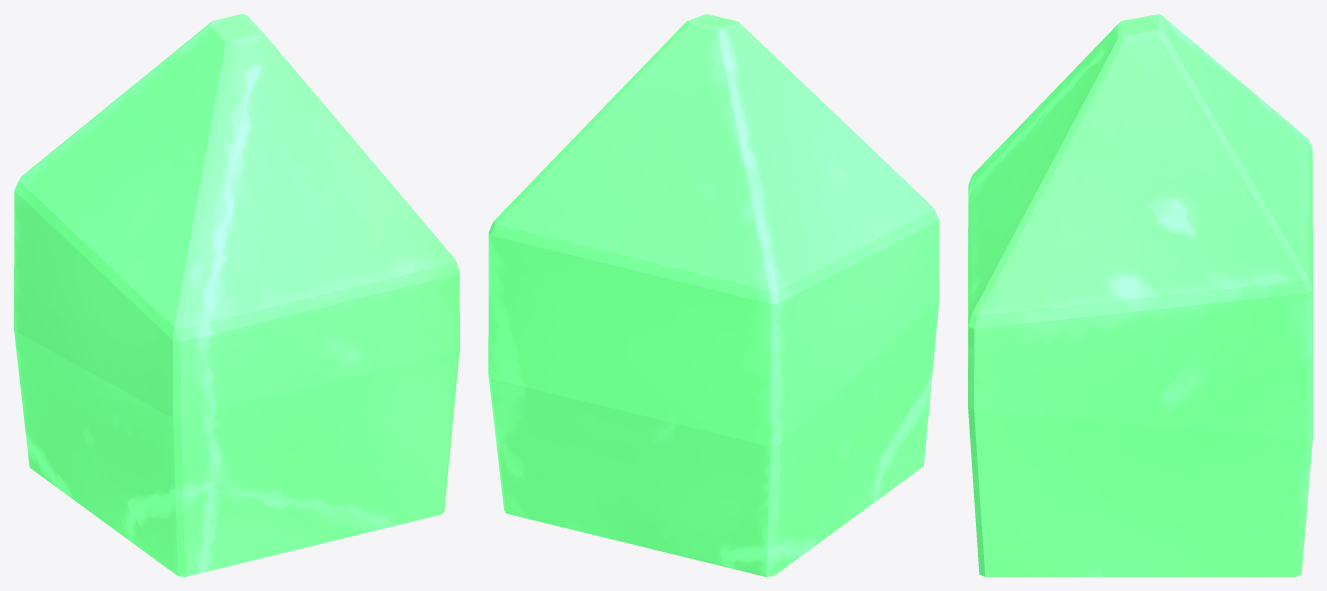
The model's file is Gem_1.fbx.
The picture shows the model from 3 angles, left to right: view 1: azimuth 30°, elevation 25°; view 2: azimuth 150°, elevation 25°; view 3: azimuth 270°, elevation 25°; orthographic projection. The views are drawn at different scales.
Parts seen in each view (by area): view 1: gem.001; view 2: gem.001; view 3: gem.001.
Part boxes in pixels (box(x1,y1,x2,y2)): gem.001: box(14, 14, 459, 576); gem.001: box(488, 14, 939, 576); gem.001: box(968, 14, 1312, 576).
Bounding box in the file's own units: 0.644 × 0.9976 × 0.6407.
Materials: 1 (1 with a texture image).
